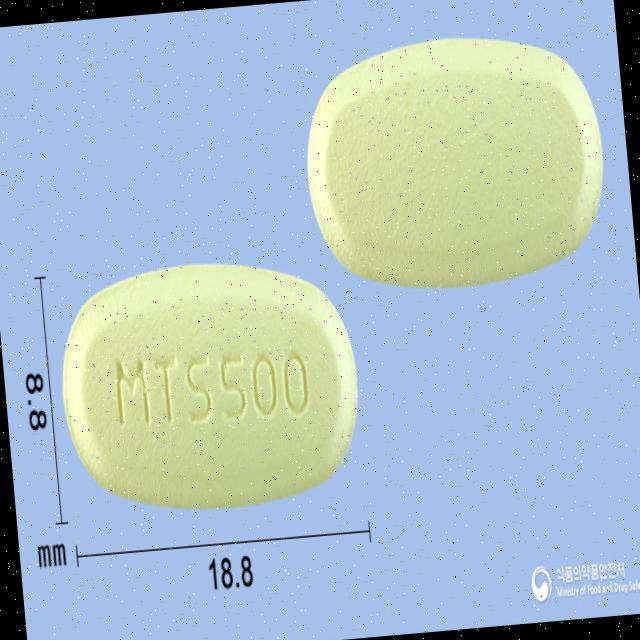Clarimacin: (290, 17, 618, 304), (45, 249, 372, 527)
